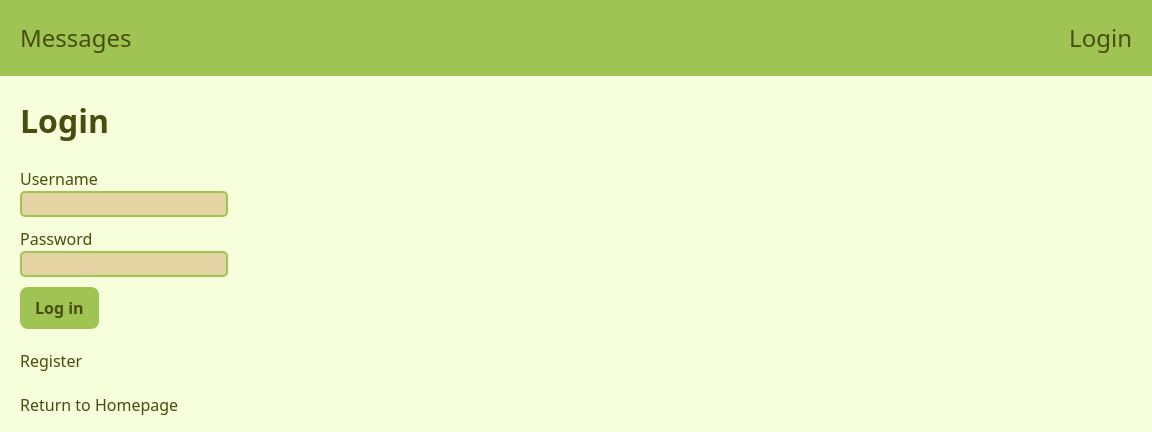
Test: Login component › correct login
Type "test" into the field labelled "Username" at x=124, y=204, box [20,191,228,217]
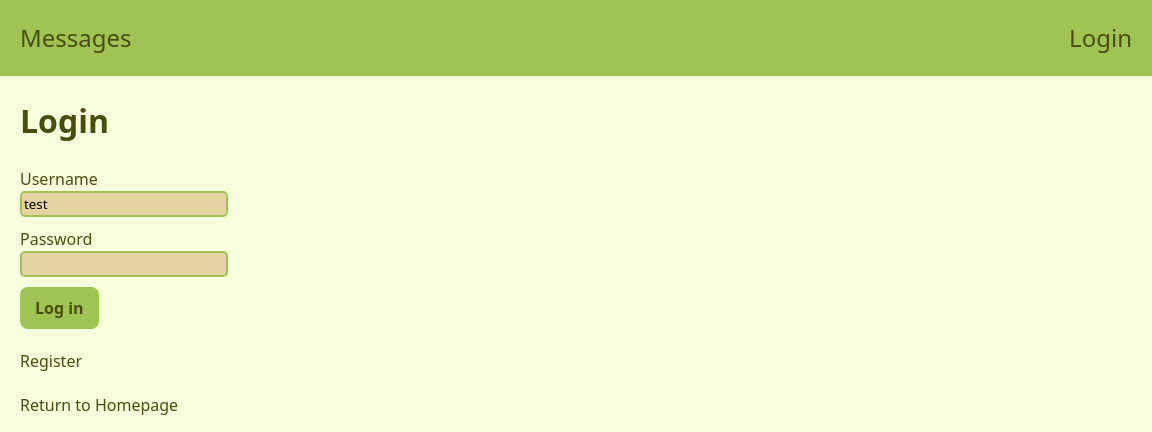
Type "aaa" into the password field labelled "Password" at x=124, y=264, box [20,251,228,277]
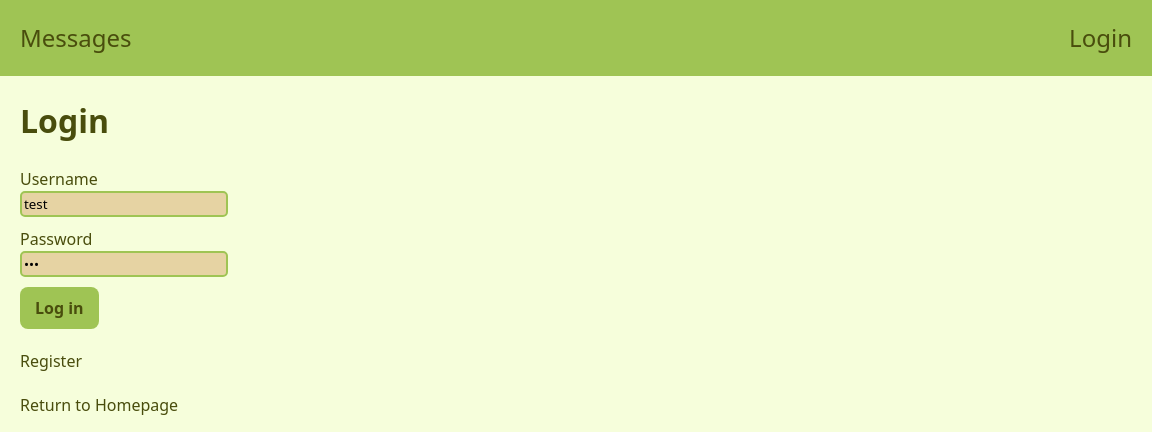
Click the button at x=59, y=308, box [20,287,99,329]
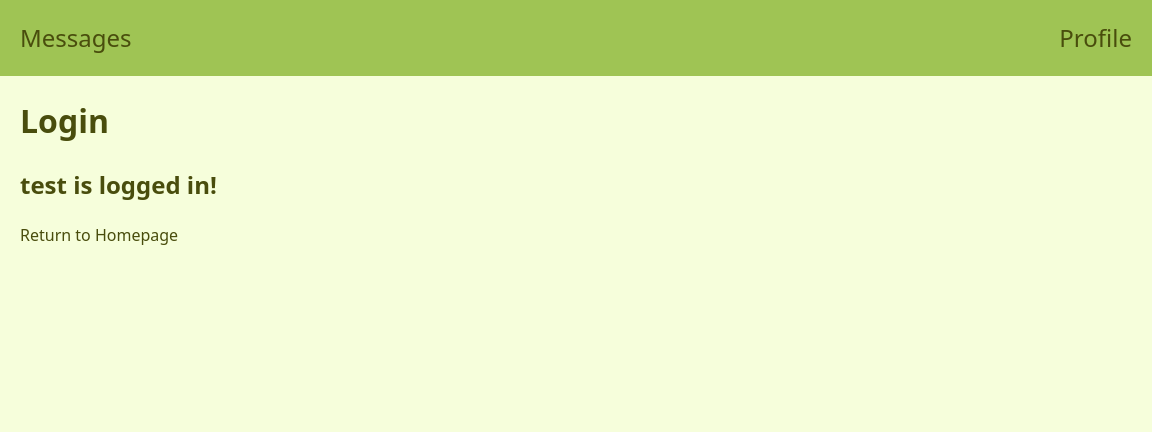
Result: the heading "test is logged in!" is shown at [20,168,217,201]
